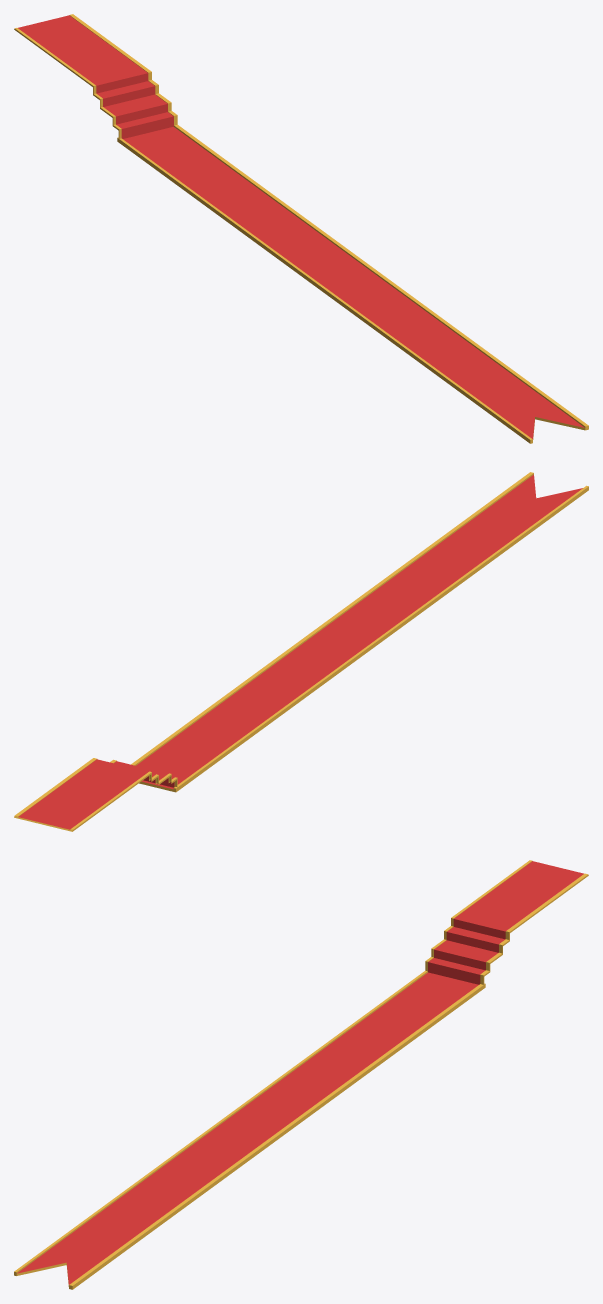
File: Carpet3_FIXed.fbx
3 views of the same model, one above another, from view 1: azimuth 30°, elevation 25°; view 2: azimuth 150°, elevation 25°; view 3: azimuth 330°, elevation 25° (orthographic).
Parts seen in each view (by area): view 1: Matt; view 2: Matt; view 3: Matt.
Part boxes in pixels (left/top/right/bottom): Matt: left=14, top=14, right=588, bottom=443; Matt: left=14, top=472, right=588, bottom=831; Matt: left=14, top=860, right=588, bottom=1289.
Bounding box in the file's own units: 439 × 271 × 6694.
